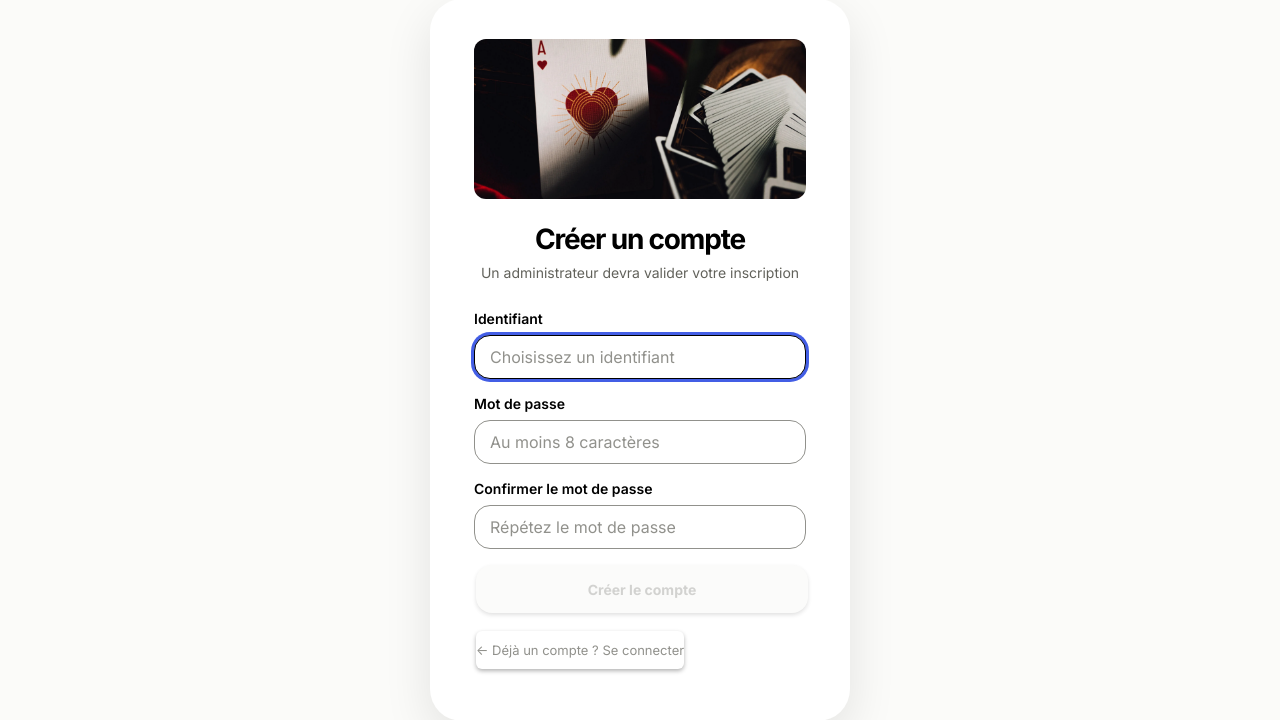
Scenario: RegisterPage › refuse si les mots de passe ne correspondent pas
Step 1. Type "alice" into the field labelled "Identifiant" → (640, 357), box [474,335,806,379]
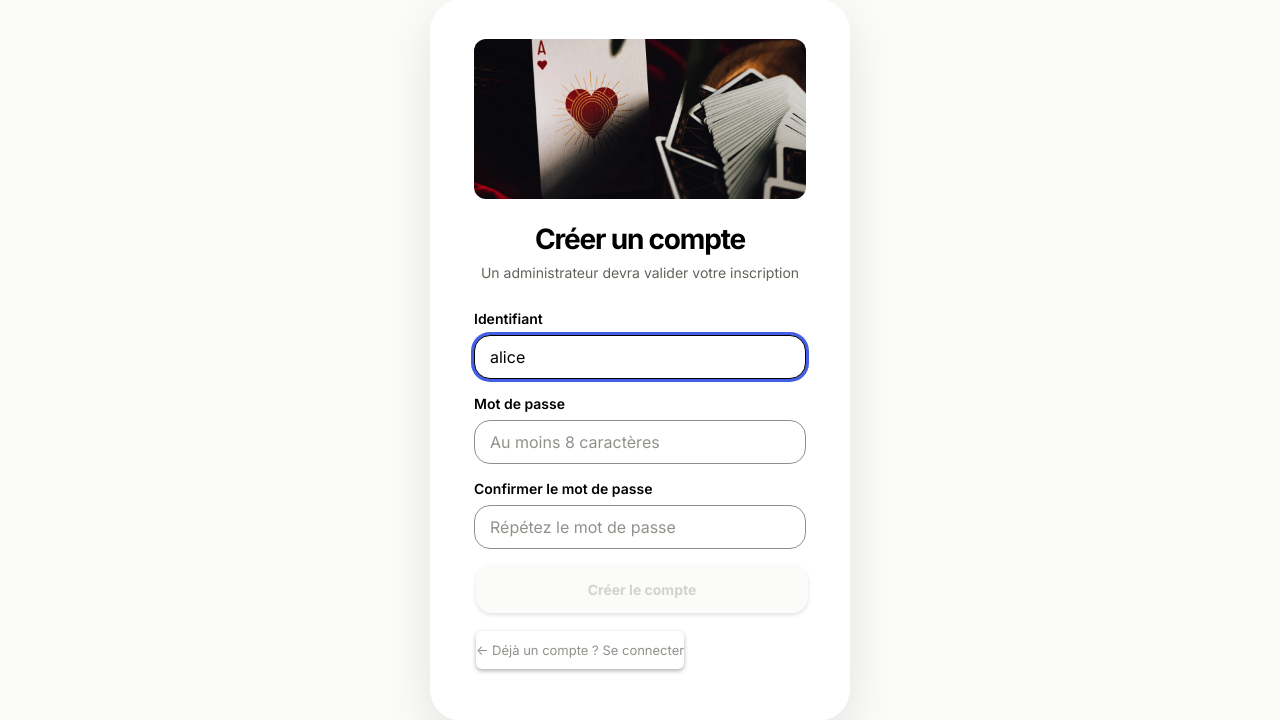
Step 2. Type "password1" into the password field labelled "Mot de passe" → (640, 442), box [474,420,806,464]
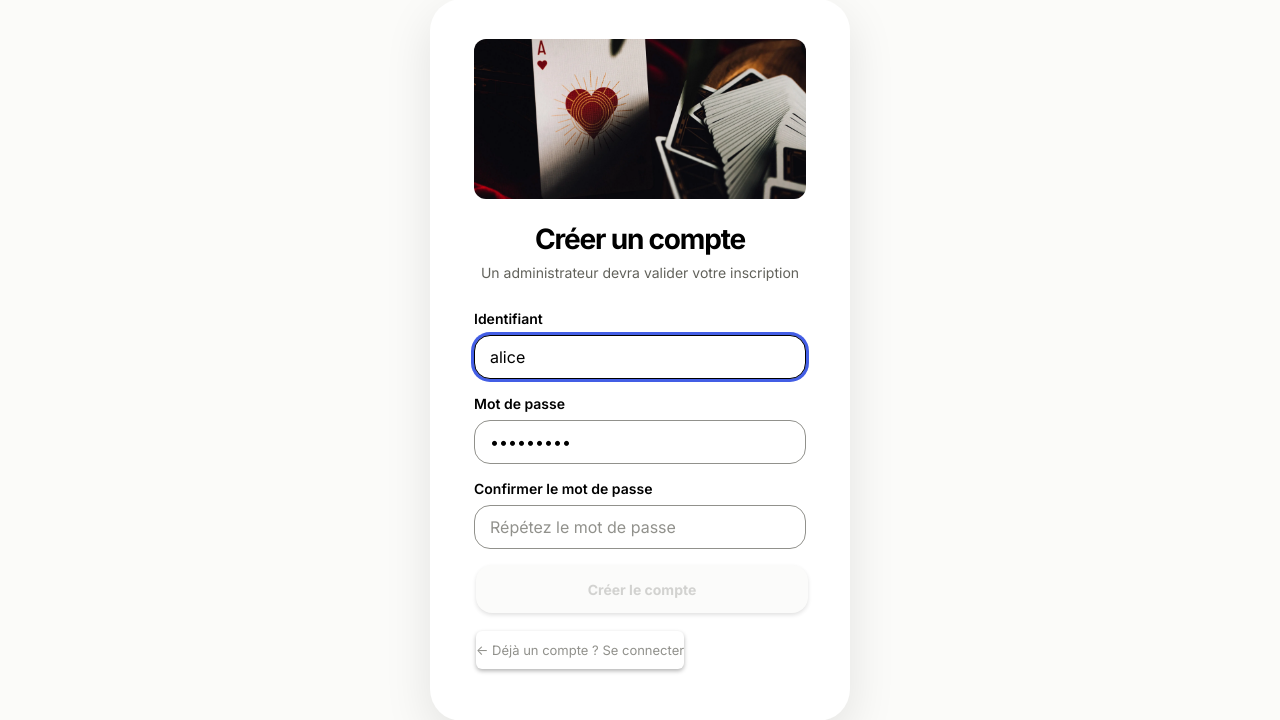
Step 3. Type "password2" into the password field labelled "Confirmer le mot de passe" → (640, 527), box [474,505,806,549]
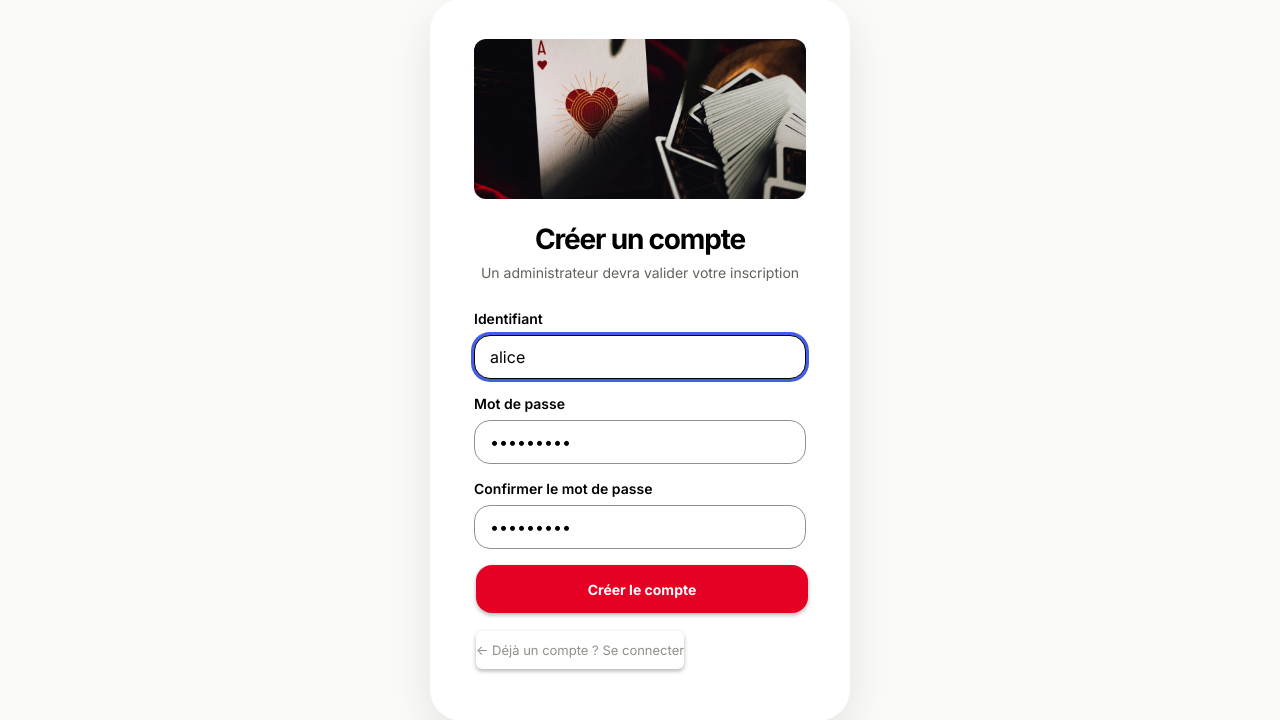
Step 4. Click the button "Créer le compte" → (642, 589), box [476,565,808,613]
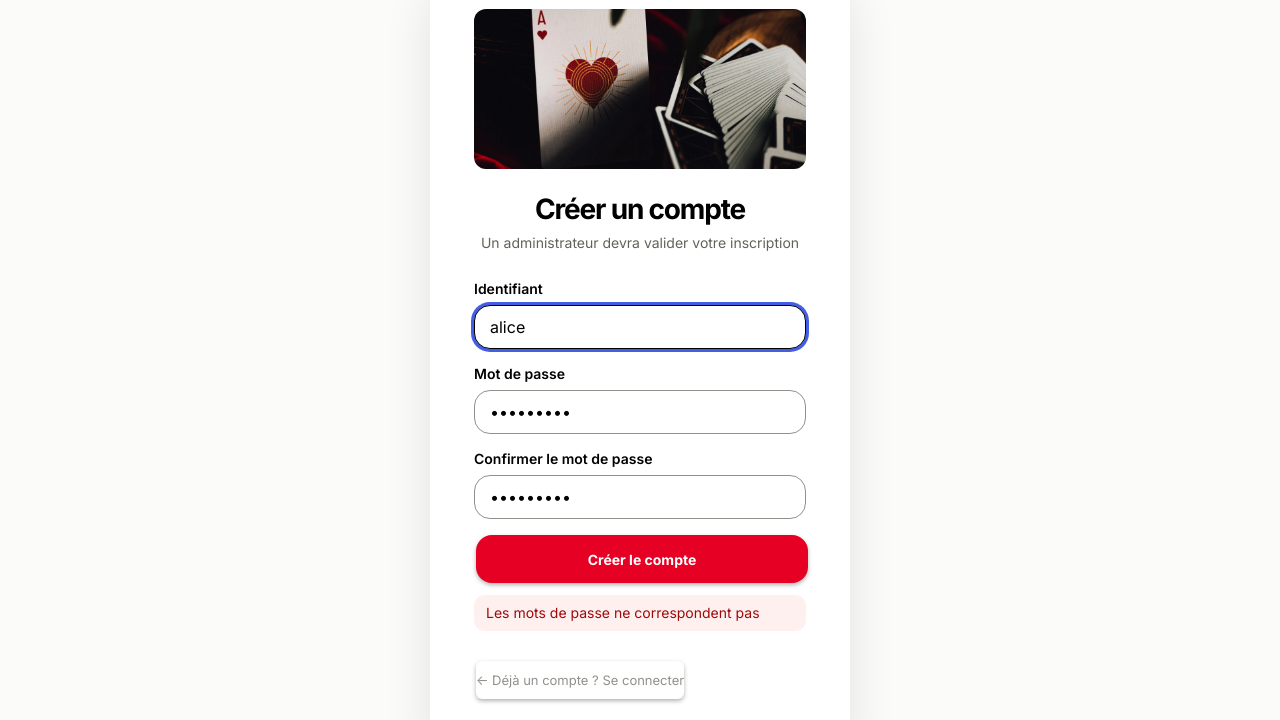
Now the text "Les mots de passe ne correspondent pas" is shown, box [474,595,806,631]
